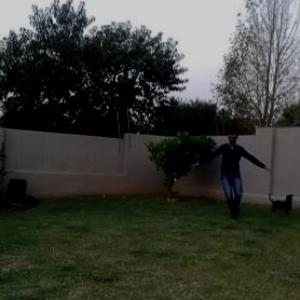land: (180, 122, 264, 220)
